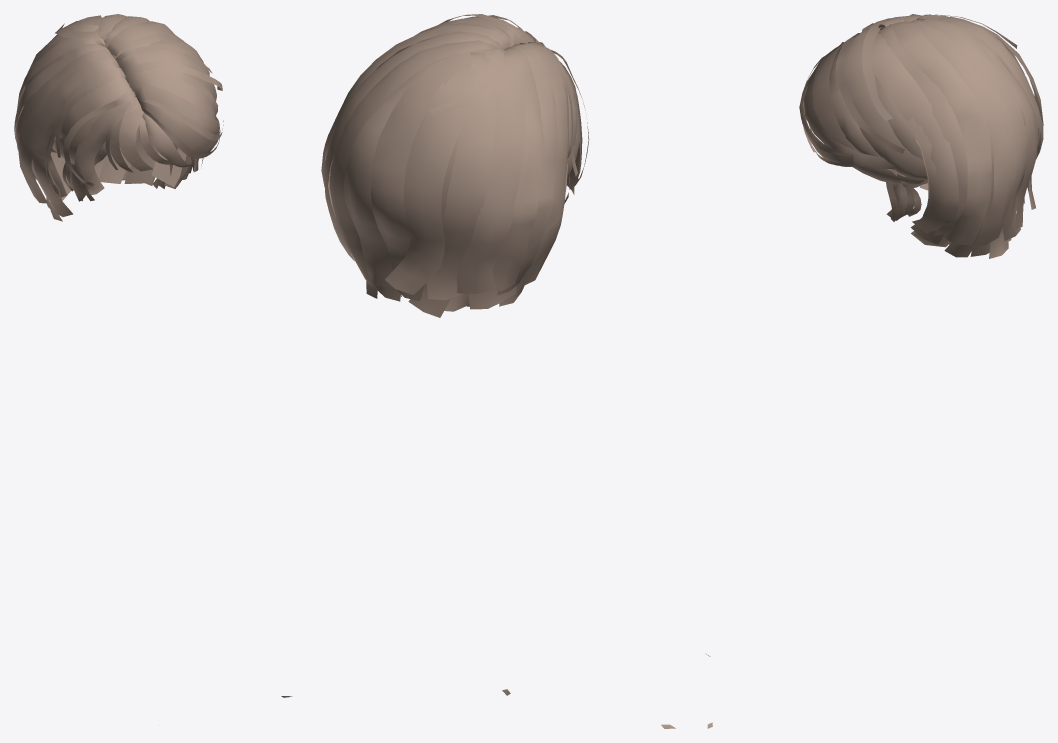
File: female_hair_12_lod0.glb
3 renders of one model, left to right at view 1: azimuth 30°, elevation 25°; view 2: azimuth 150°, elevation 25°; view 3: azimuth 270°, elevation 25°, orthographic. The views are drawn at different scales.
Visible parts, largest first — view 1: female-hair-12; view 2: female-hair-12; view 3: female-hair-12.
Part boxes in pixels (left/top/right/bottom): female-hair-12: left=14, top=14, right=292, bottom=697; female-hair-12: left=321, top=14, right=675, bottom=728; female-hair-12: left=705, top=14, right=1043, bottom=728.
Size of the model in its own units: 0.2046 by 0.662 by 0.3038.
